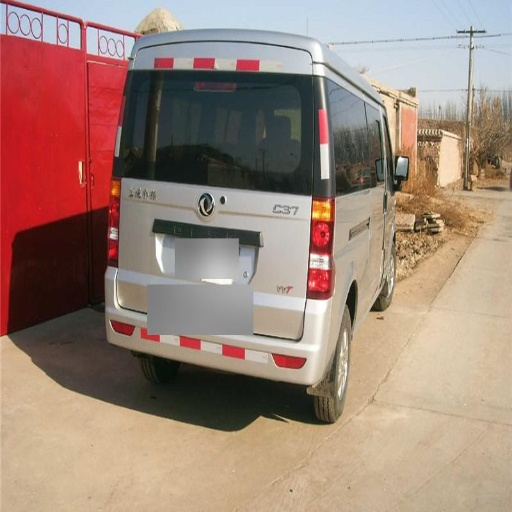back_bumper: (107, 269, 340, 386)
tailgate: (128, 176, 304, 244)
trunk: (123, 179, 313, 338)
